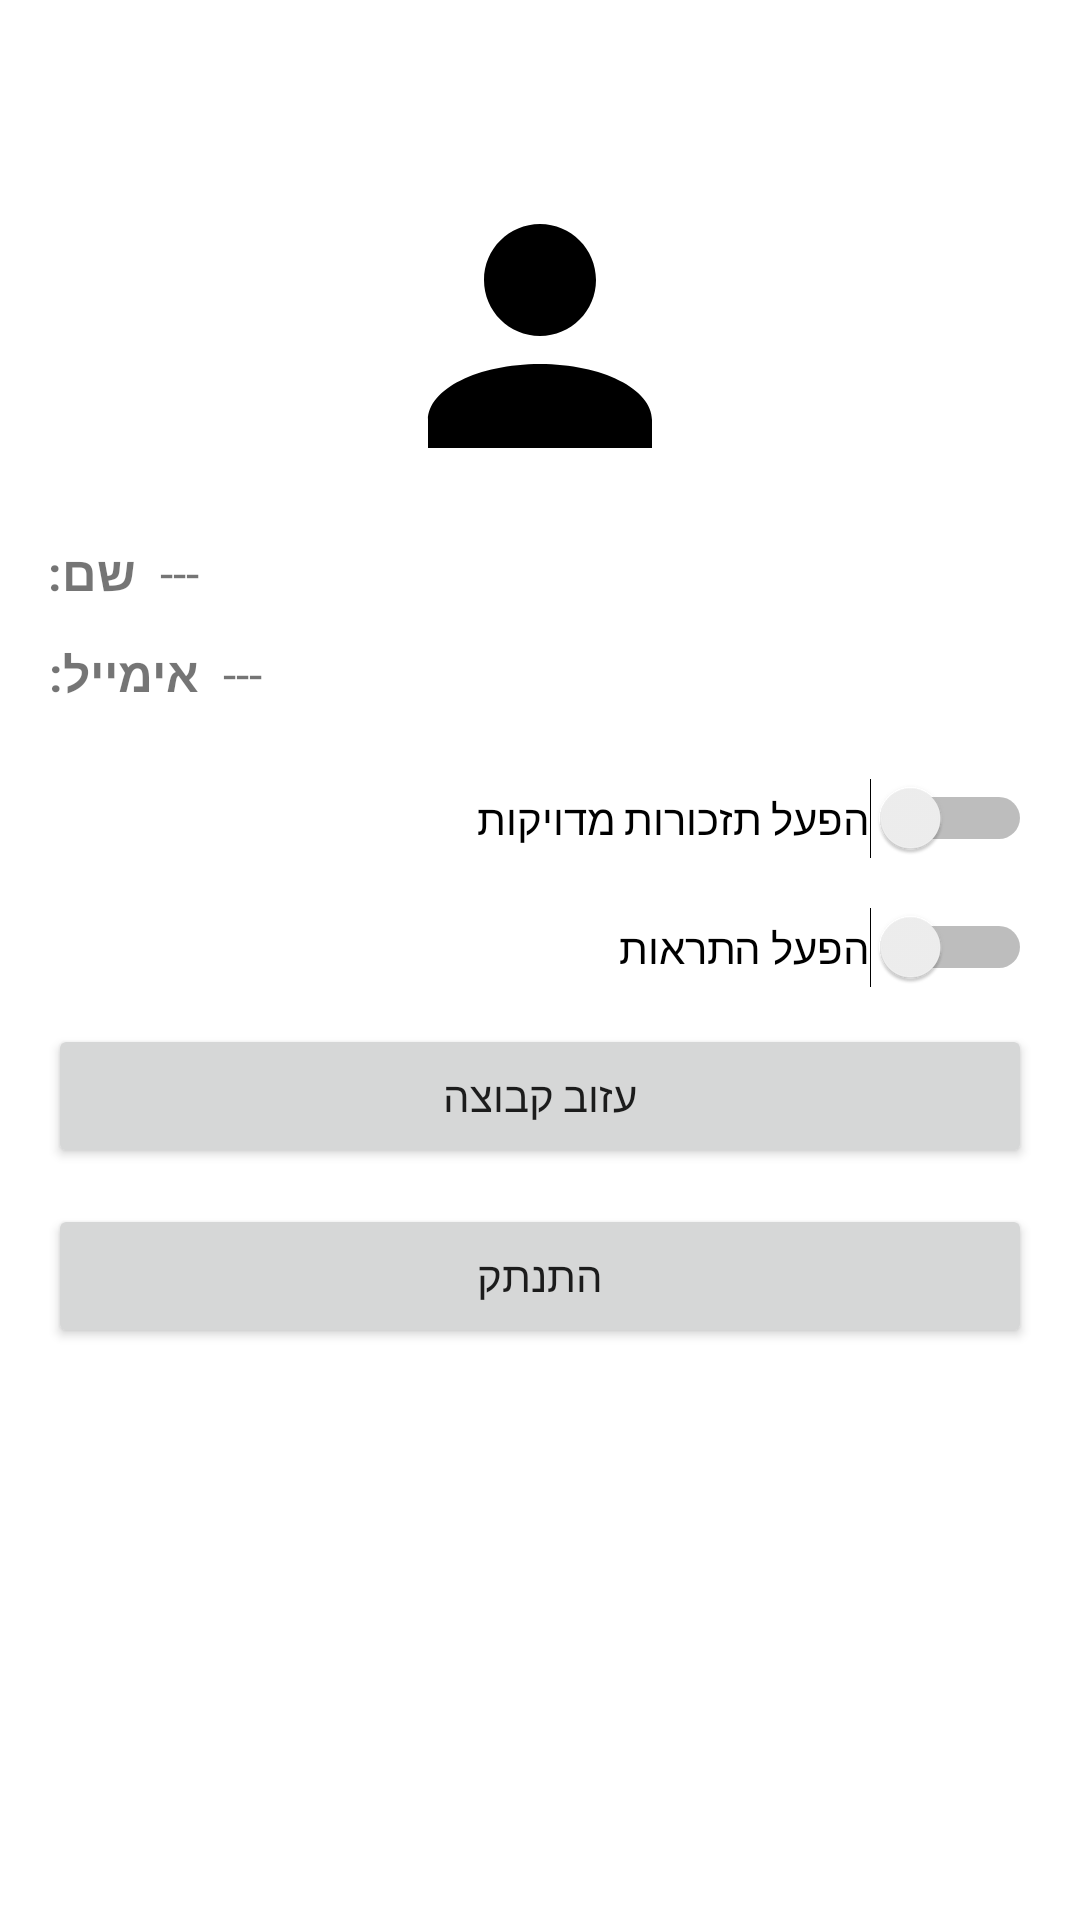

Screen size 1080w x 1920h. Icon name, then its box in pixels as (x1, y1, x2, y2):
תמונת פרופיל ברירת מחדל: (427, 224, 652, 448)
